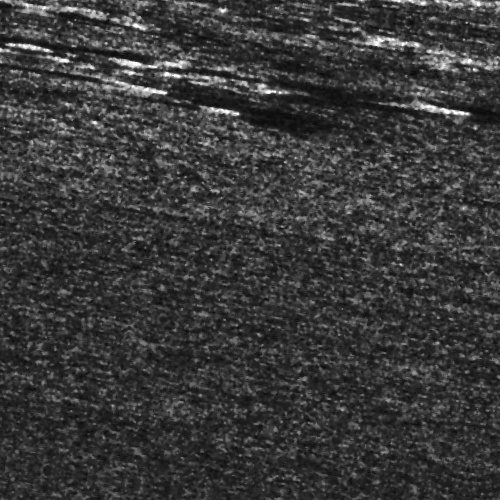object: (80, 70, 205, 79), (367, 70, 460, 81), (52, 100, 157, 107), (175, 110, 228, 115)
shadow: (165, 70, 413, 81), (0, 70, 142, 79), (0, 100, 104, 107), (72, 110, 201, 115)
